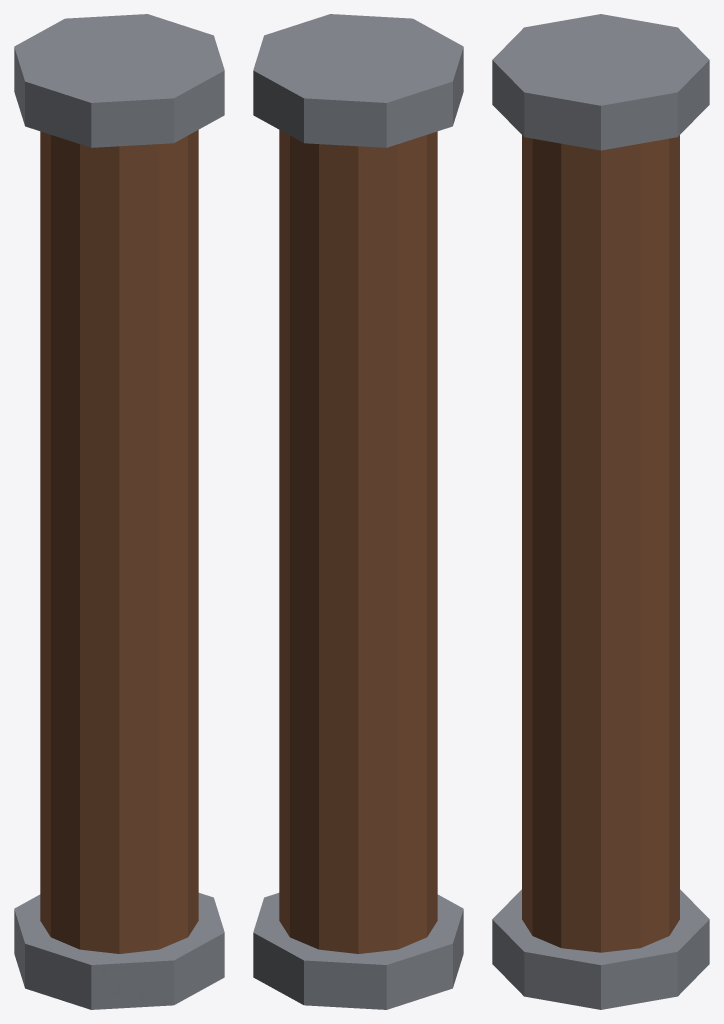
File: DETAIL_Pipe_Straight_1m.glb
The picture shows the model from 3 angles, left to right: view 1: azimuth 30°, elevation 25°; view 2: azimuth 150°, elevation 25°; view 3: azimuth 270°, elevation 25°; orthographic projection.
Visible parts, largest first — view 1: DETAIL_Pipe_Straight_1m; view 2: DETAIL_Pipe_Straight_1m; view 3: DETAIL_Pipe_Straight_1m.
Part boxes in pixels (x1,y1,x2,y2): DETAIL_Pipe_Straight_1m: (14, 14, 224, 1009); DETAIL_Pipe_Straight_1m: (253, 14, 463, 1009); DETAIL_Pipe_Straight_1m: (492, 14, 709, 1009).
Bounding box in the file's own units: 0.22 × 1.01 × 0.22.
